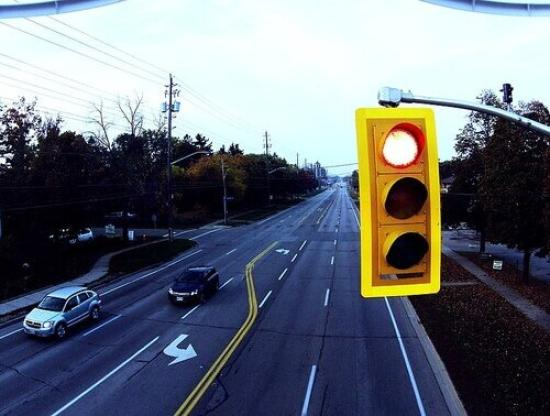car: (22, 278, 128, 352), (165, 262, 229, 310)
traffic light: (334, 83, 460, 312)
